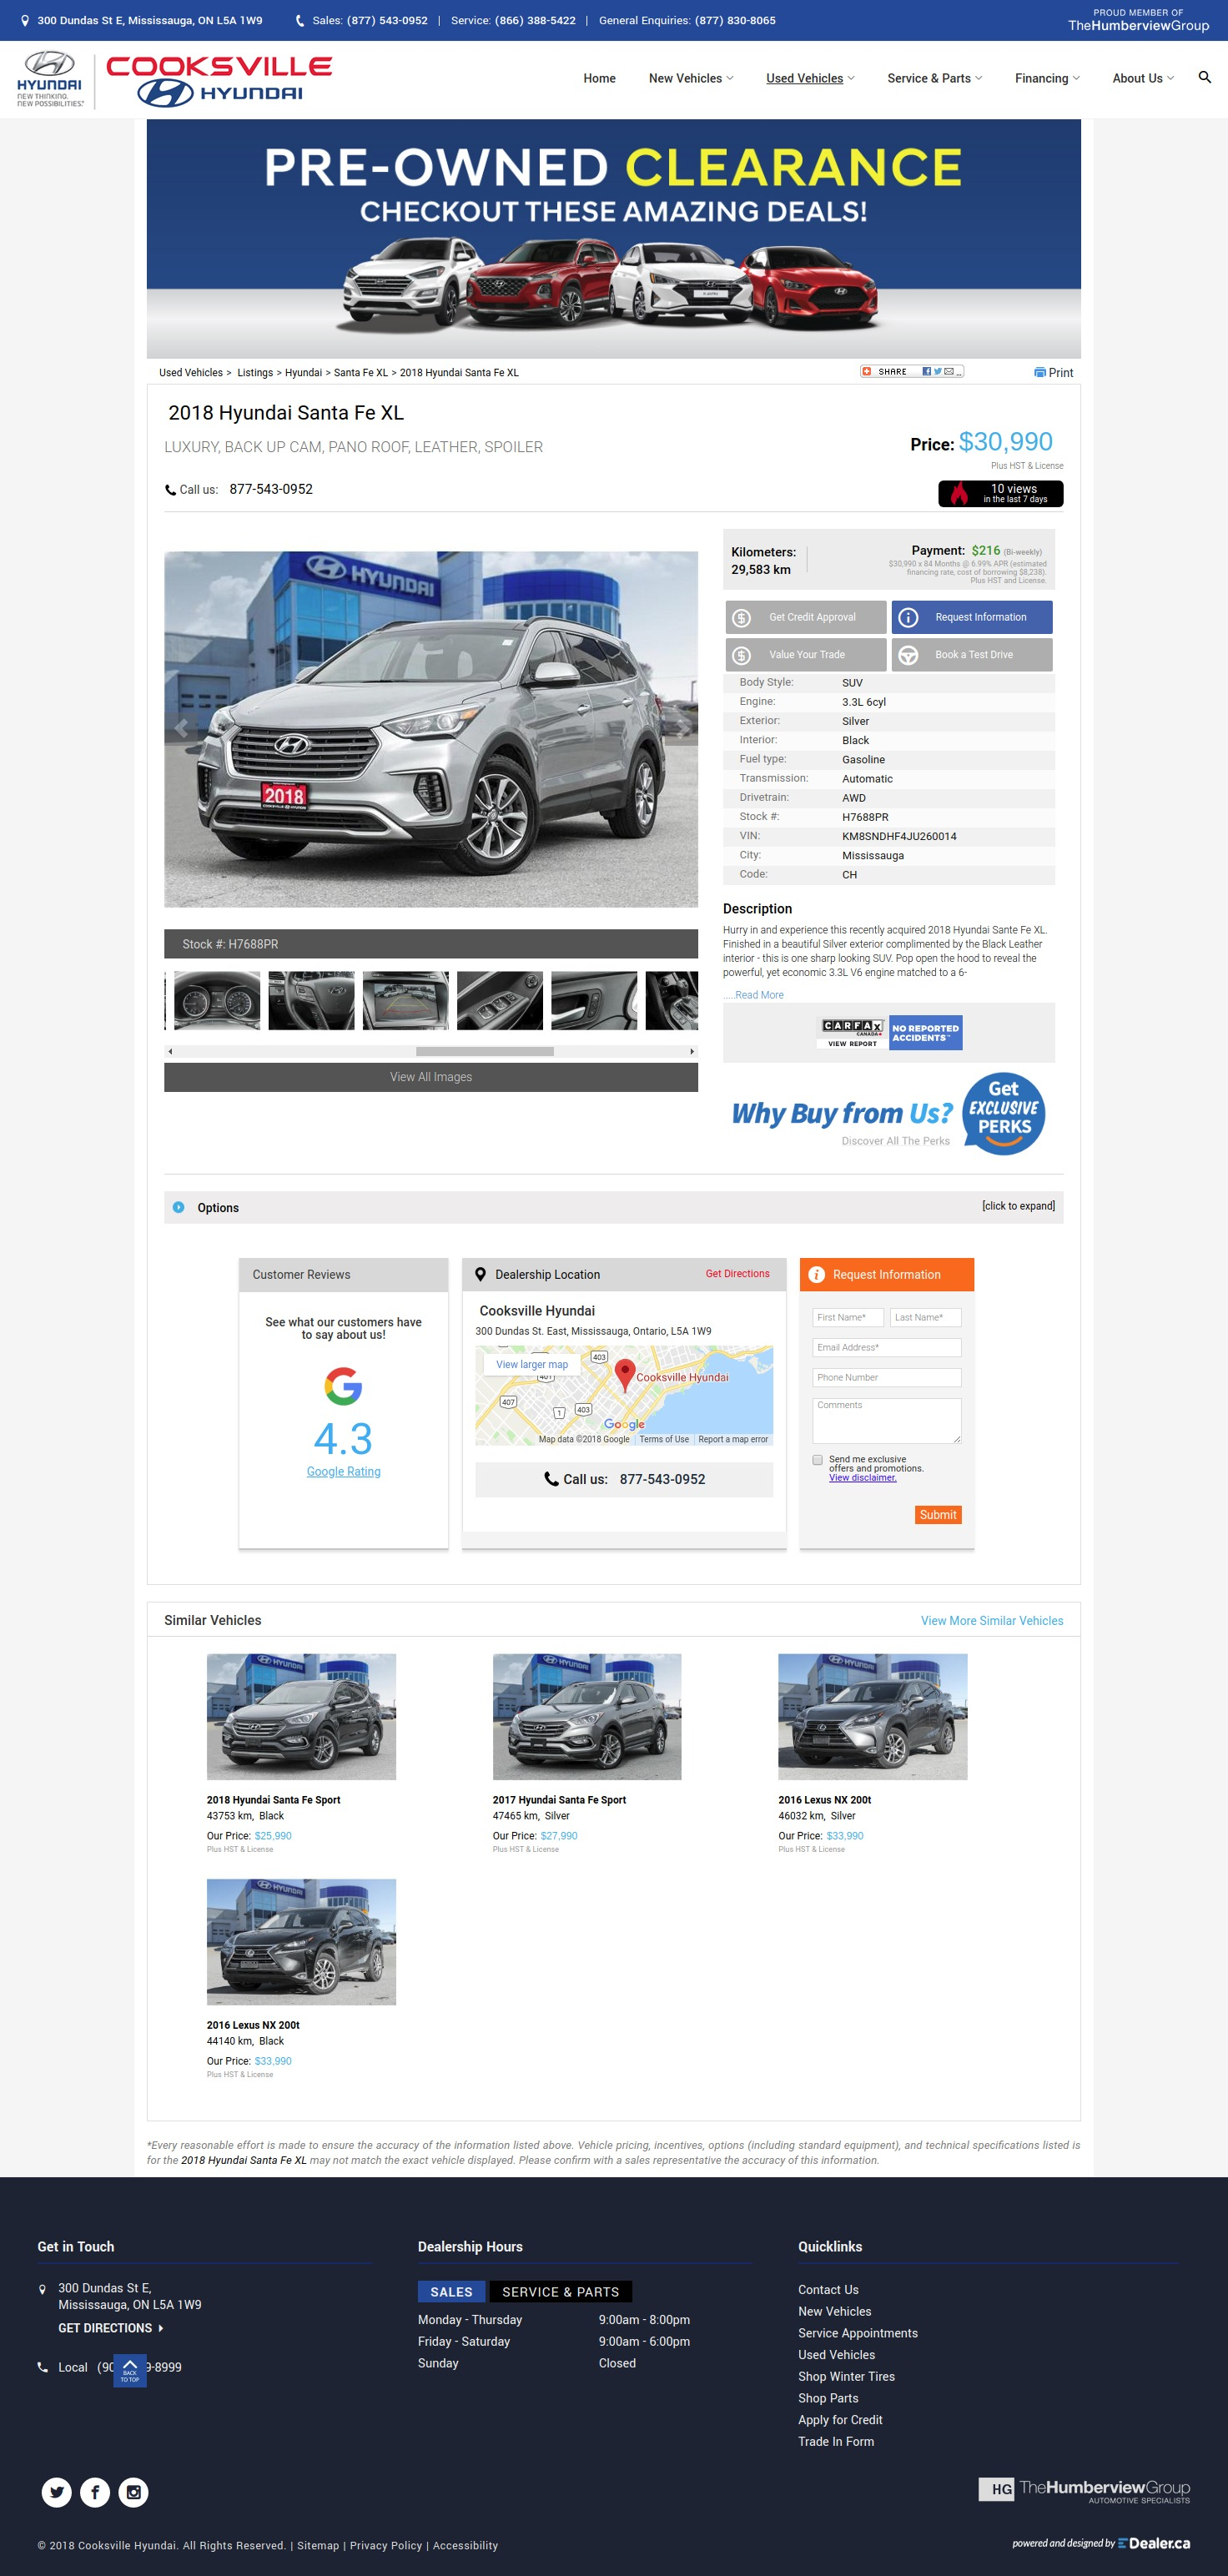car: (690, 1048, 695, 1056)
